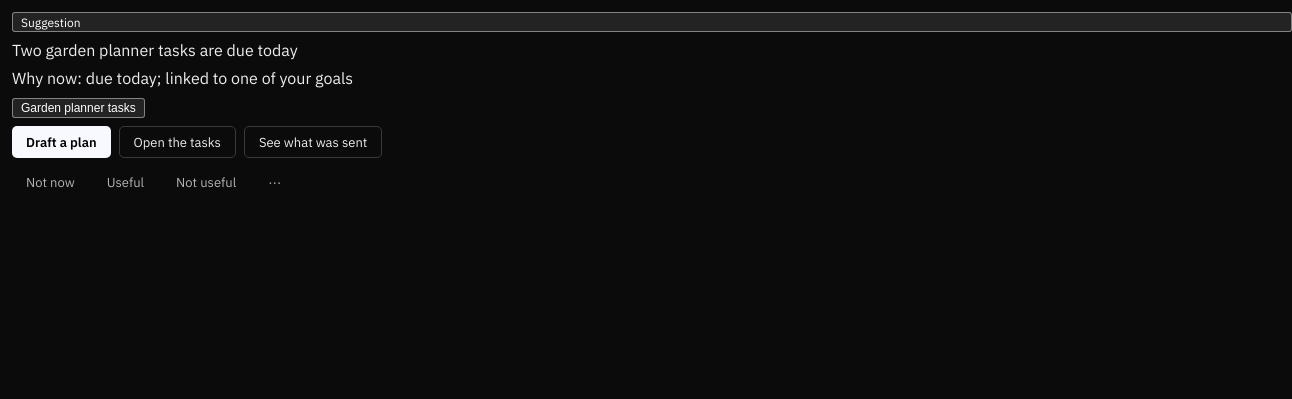
Test: the ⋯ menu › Escape closes the menu and returns focus to the toggle
Click the button named "More" at [275, 182], box [254,166,295,198]
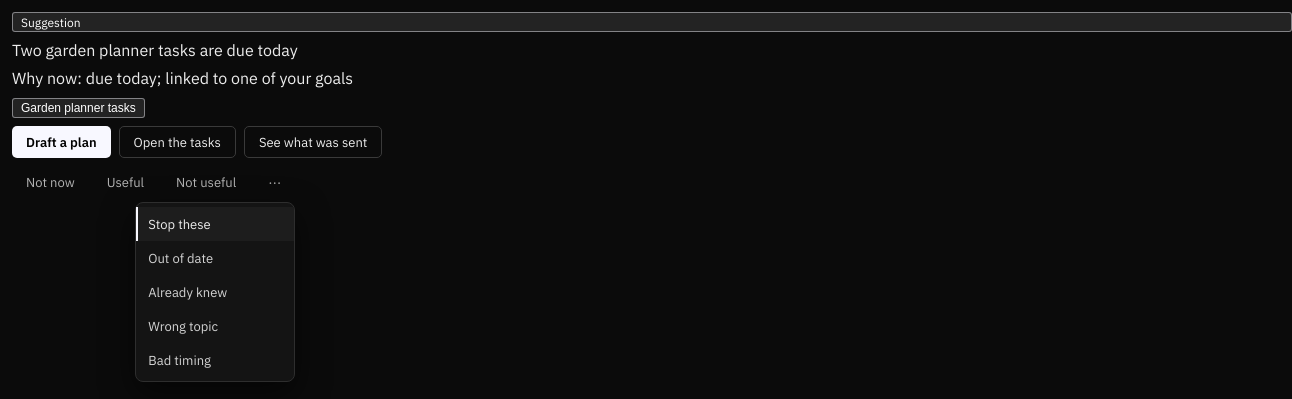
Press Escape in the menu item "Stop these", box [136,207,294,241]
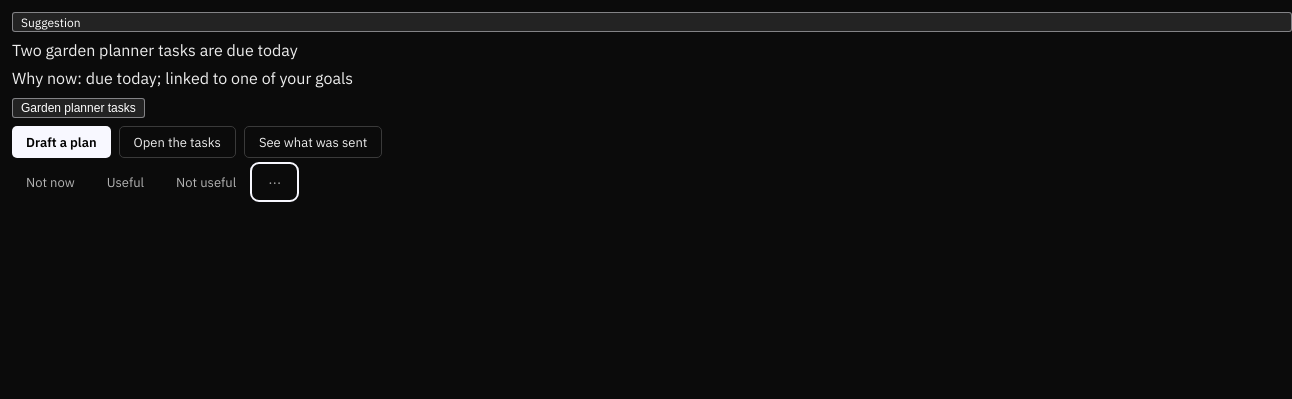
Expected: the menu is gone
